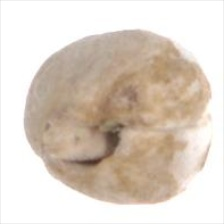L3: (43, 121, 124, 166)
L4: (23, 28, 214, 205)
